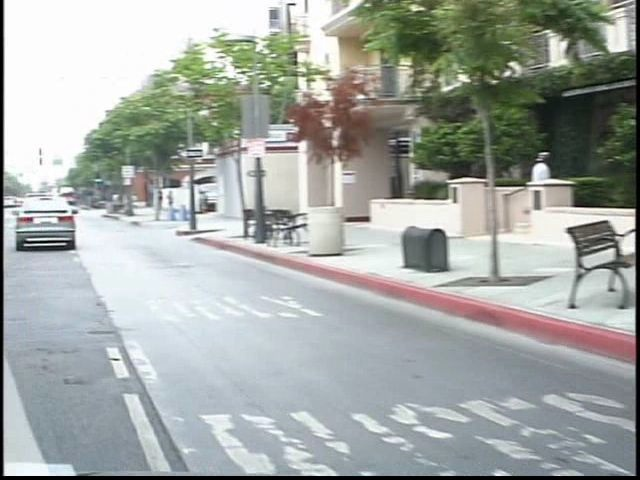person: (505, 146, 546, 239), (152, 184, 167, 218)
